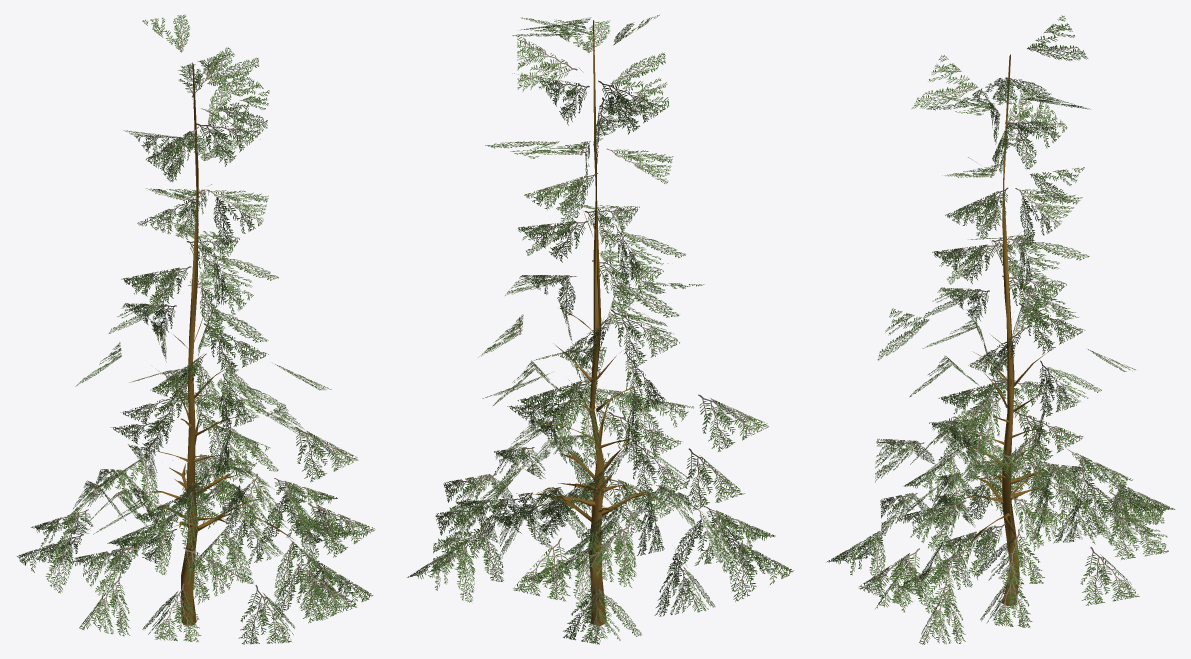
Rendered from sapin_fir_feuilles_l1.glb.
The picture shows the model from 3 angles, left to right: view 1: azimuth 30°, elevation 25°; view 2: azimuth 150°, elevation 25°; view 3: azimuth 270°, elevation 25°; orthographic projection. The views are drawn at different scales.
Visible parts, largest first — view 1: Tree_1, Tree_0_Tree_0Mat_0.001; view 2: Tree_1, Tree_0_Tree_0Mat_0.001; view 3: Tree_1, Tree_0_Tree_0Mat_0.001.
Boxes of the visible parts, x1=… form: Tree_1: x1=17, y1=14, x2=375, y2=644; Tree_0_Tree_0Mat_0.001: x1=71, y1=62, x2=314, y2=625; Tree_1: x1=407, y1=15, x2=793, y2=644; Tree_0_Tree_0Mat_0.001: x1=516, y1=20, x2=686, y2=626; Tree_1: x1=826, y1=15, x2=1175, y2=644; Tree_0_Tree_0Mat_0.001: x1=948, y1=54, x2=1054, y2=606.
Size of the model in its own units: 69.22 by 126 by 69.36.
2 materials, 1 textured.
